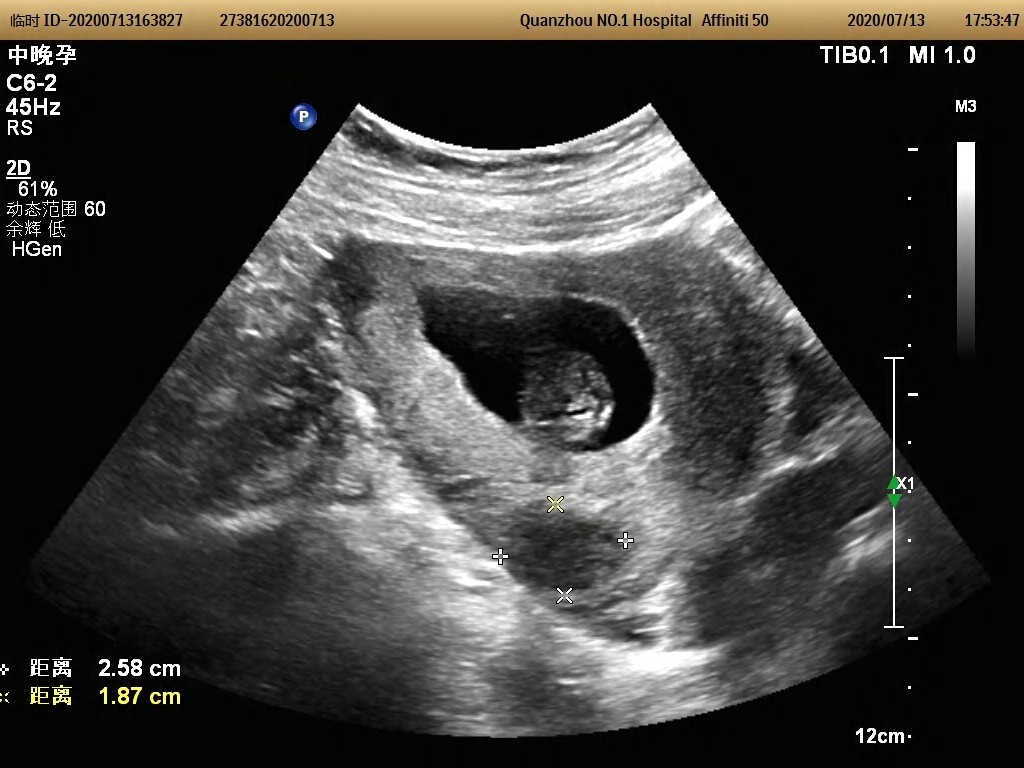肌瘤: (513, 517, 618, 586)
